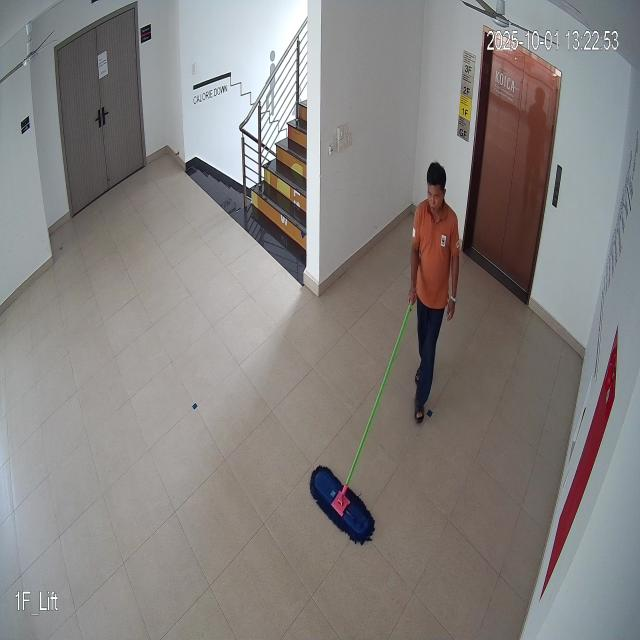face: (423, 153, 448, 221)
